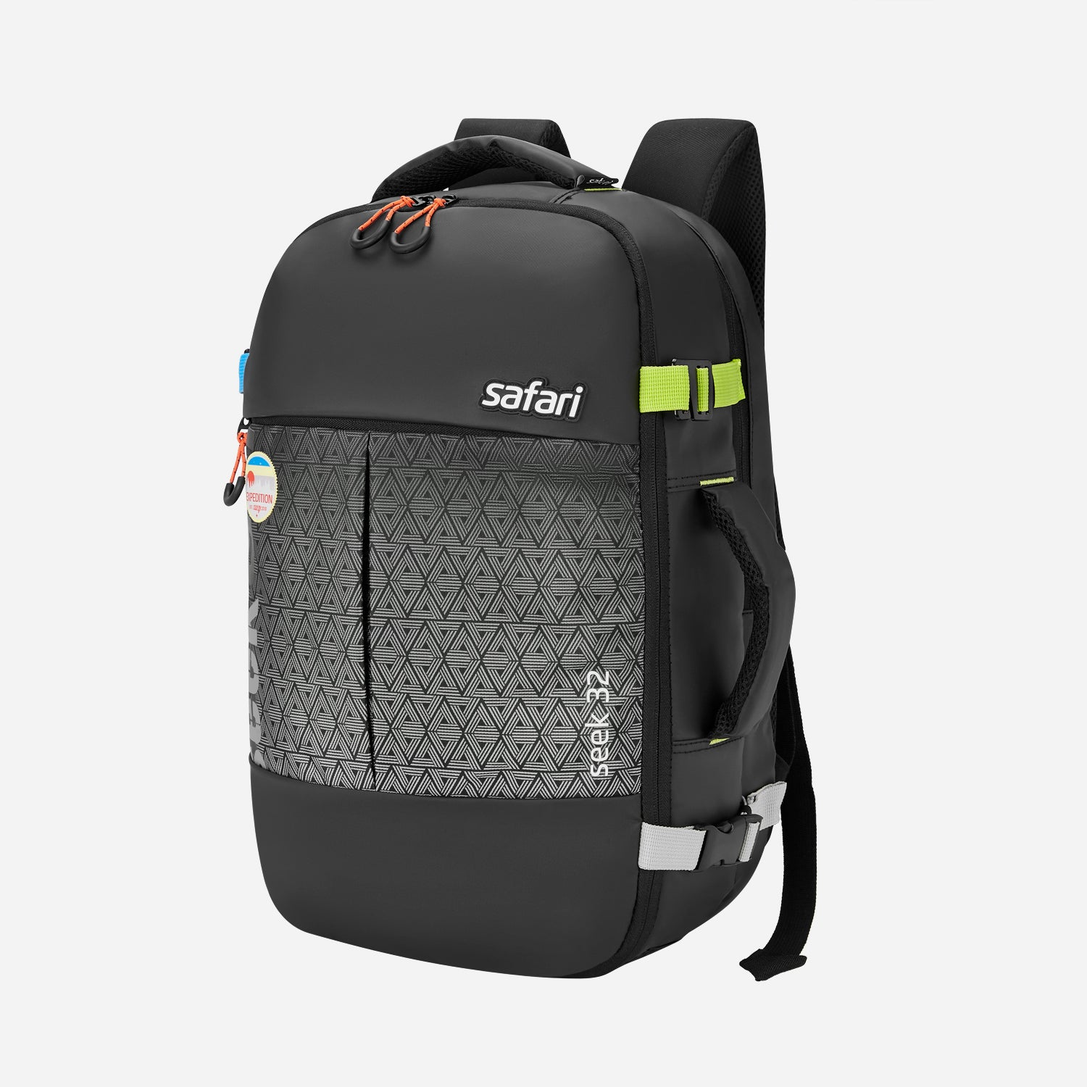backpack: (225, 115, 819, 983)
